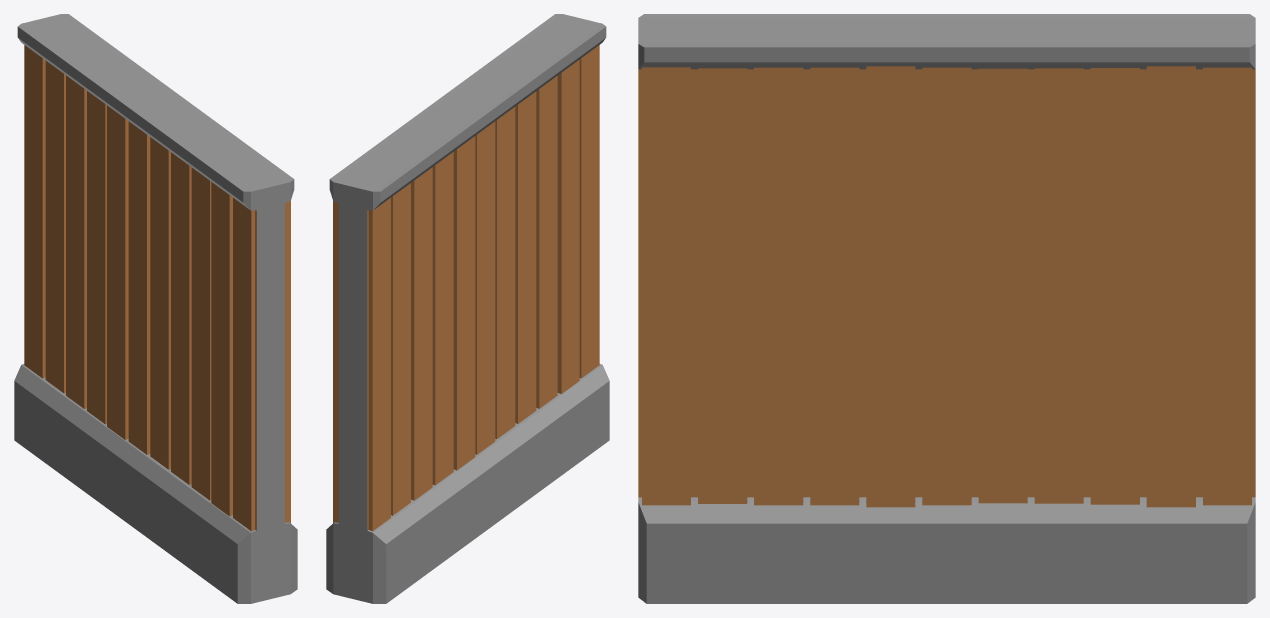
The model's file is mur4.FBX.
3 views of the same model, side by side, from view 1: azimuth 30°, elevation 25°; view 2: azimuth 150°, elevation 25°; view 3: azimuth 270°, elevation 25° (orthographic). The views are drawn at different scales.
Parts seen in each view (by area): view 1: Mur006; view 2: Mur006; view 3: Mur006.
Part boxes in pixels (box(x1,y1,x2,y2)): Mur006: box(14, 14, 297, 603); Mur006: box(326, 14, 609, 603); Mur006: box(638, 14, 1255, 603).
Bounding box in the file's own units: 15.08 × 99.03 × 100.
1 material, 1 textured.
